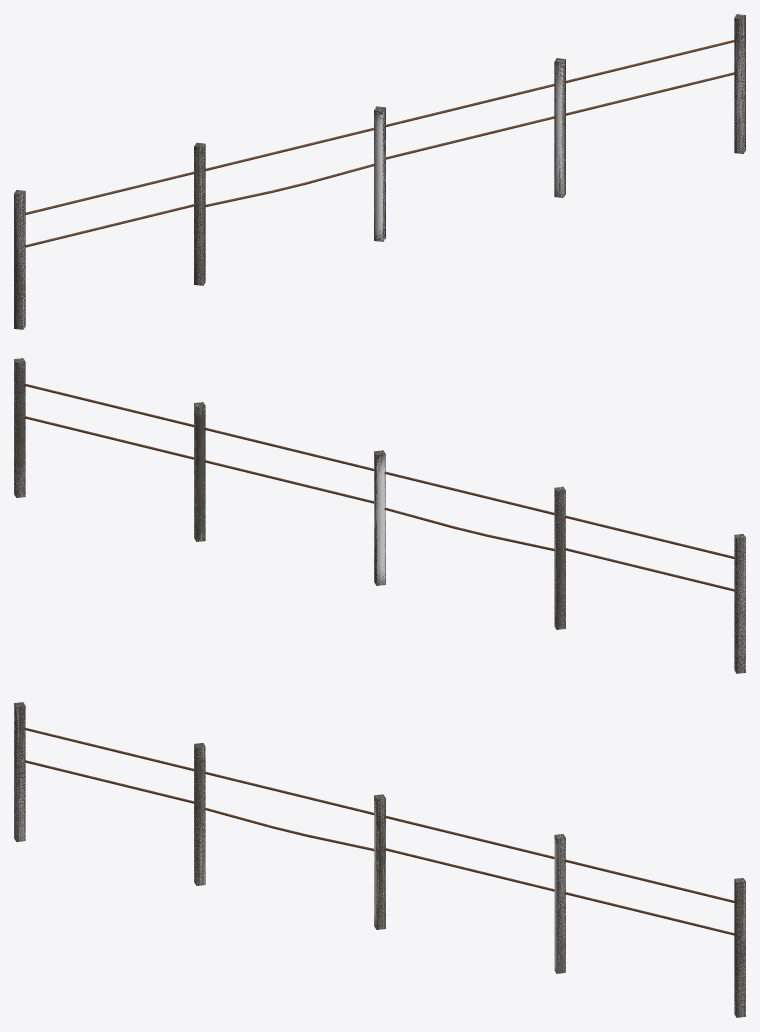
The model's file is objects_un_woodenfence03.gltf.
3 views of the same model, one above another, from view 1: azimuth 30°, elevation 25°; view 2: azimuth 150°, elevation 25°; view 3: azimuth 330°, elevation 25° (orthographic).
Visible parts, largest first — view 1: um_objects_un_woodenfence03_model_lod0Shape:objects_un_woode (×2); view 2: um_objects_un_woodenfence03_model_lod0Shape:objects_un_woode (×2); view 3: um_objects_un_woodenfence03_model_lod0Shape:objects_un_woode (×2).
Boxes of the visible parts, x1,y1,x2,y2 form: um_objects_un_woodenfence03_model_lod0Shape:objects_un_woode (×2): (14,14,745,329); um_objects_un_woodenfence03_model_lod0Shape:objects_un_woode (×2): (14,358,745,673); um_objects_un_woodenfence03_model_lod0Shape:objects_un_woode (×2): (14,702,745,1017).
Size of what is drawn, in the model's own units: 7.32 by 1.32 by 0.1177.
2 materials, 1 textured.
